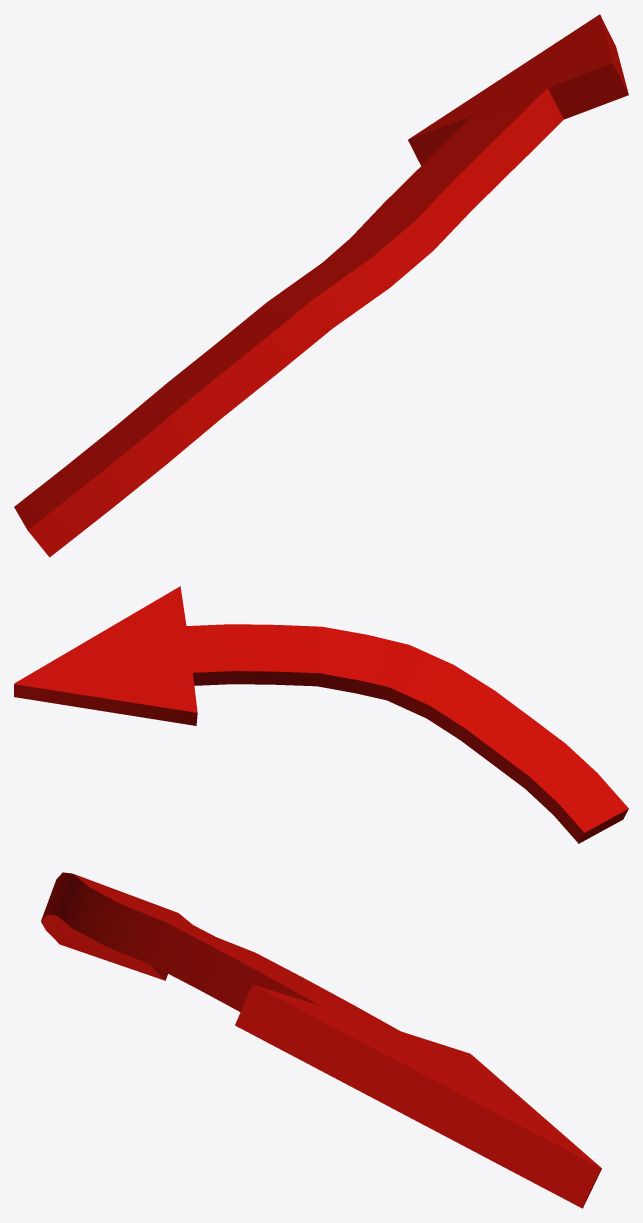
Rendered from Arrow12.fbx.
3 views of the same model, one above another, from view 1: azimuth 30°, elevation 25°; view 2: azimuth 150°, elevation 25°; view 3: azimuth 270°, elevation 25° (orthographic). The views are drawn at different scales.
Parts seen in each view (by area): view 1: Cube.111; view 2: Cube.111; view 3: Cube.111.
Part boxes in pixels (bbox=[...]): Cube.111: bbox=[14, 14, 628, 557]; Cube.111: bbox=[14, 586, 628, 843]; Cube.111: bbox=[41, 872, 601, 1208].
Size of the model in its own units: 1.7 by 0.6047 by 0.8455.
